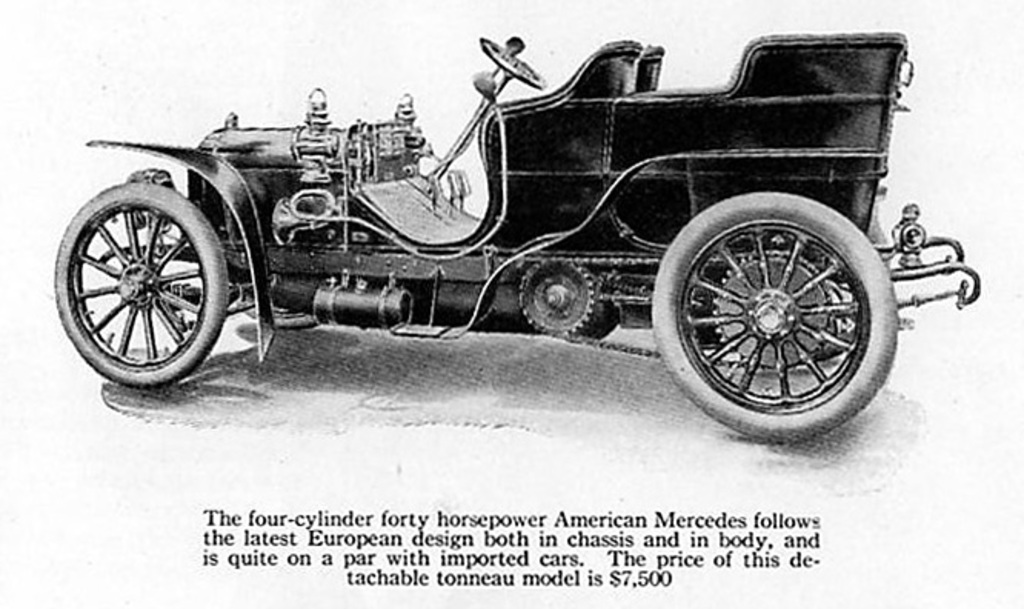Car: (50, 29, 980, 447)
